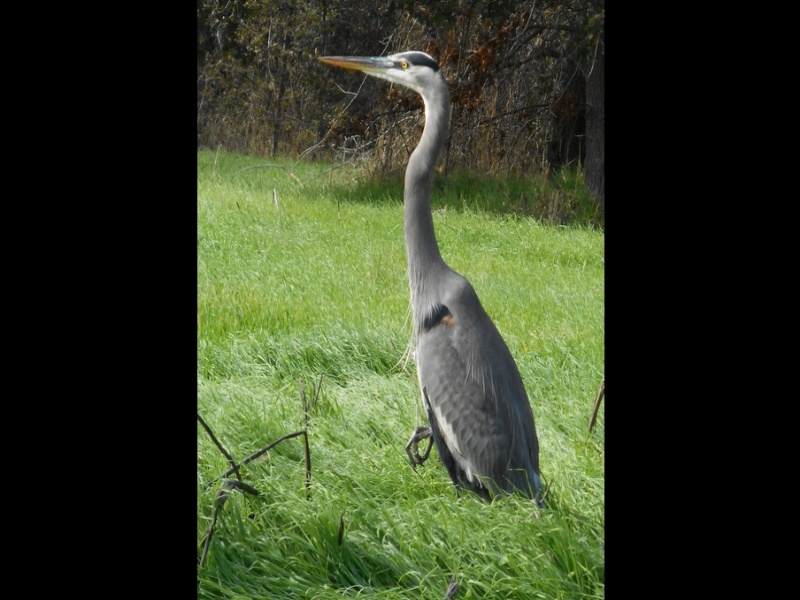heron: (316, 42, 548, 503)
